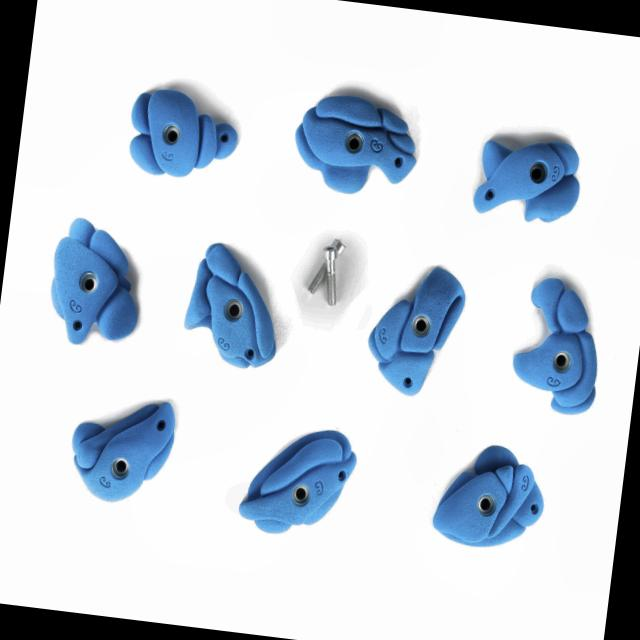Hold: (276, 93, 424, 207), (356, 254, 466, 399), (58, 387, 185, 512), (424, 436, 550, 558), (510, 272, 612, 418), (40, 208, 144, 350), (180, 233, 288, 366), (234, 422, 351, 534), (119, 88, 242, 190), (466, 144, 586, 236)
